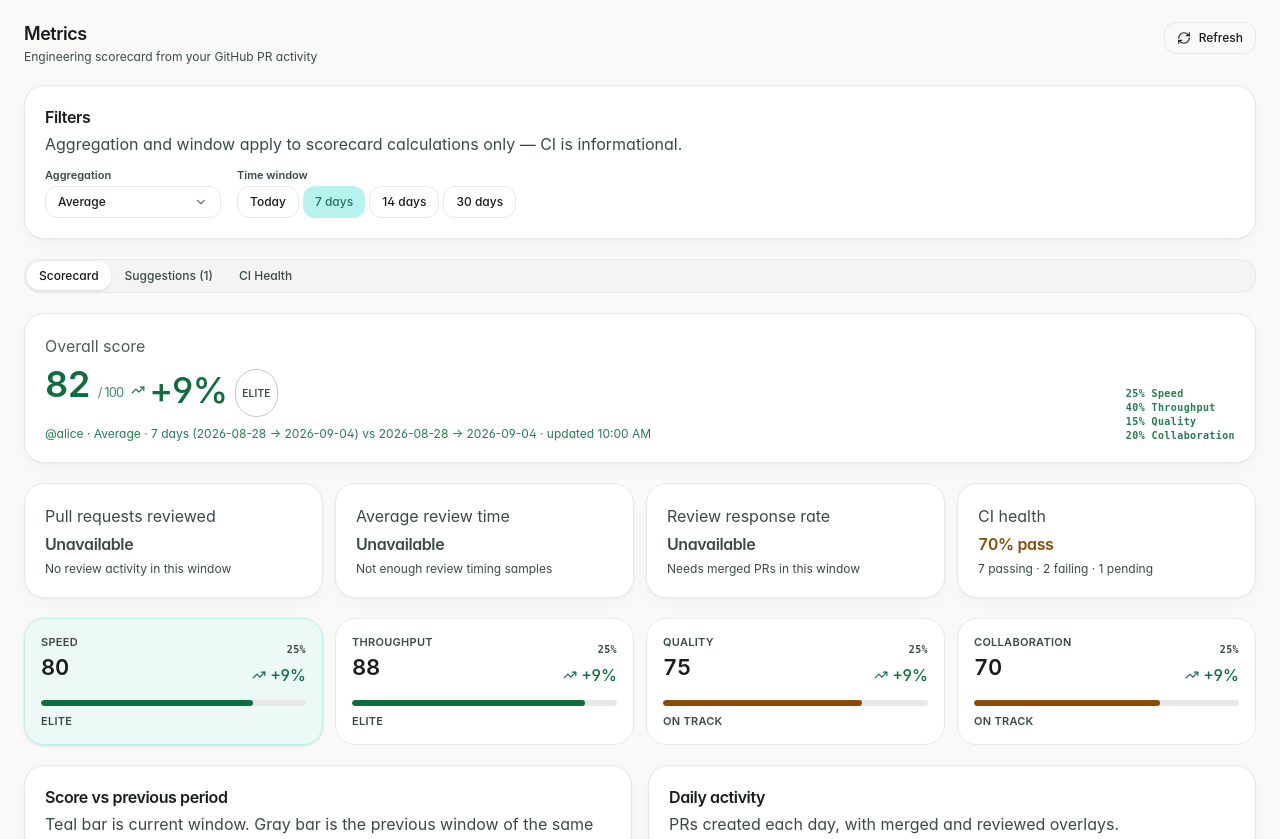
Test case: MetricsPage › renders scorecard tab with category cards and breakdown
Expected: the heading "Metrics" is shown, [24,23,87,44]
Expected: the text "Overall score" is shown, [45,336,145,356]
Click the button "Quality 75 25% +9% On track" at x=688, y=642, box [646,618,945,745]
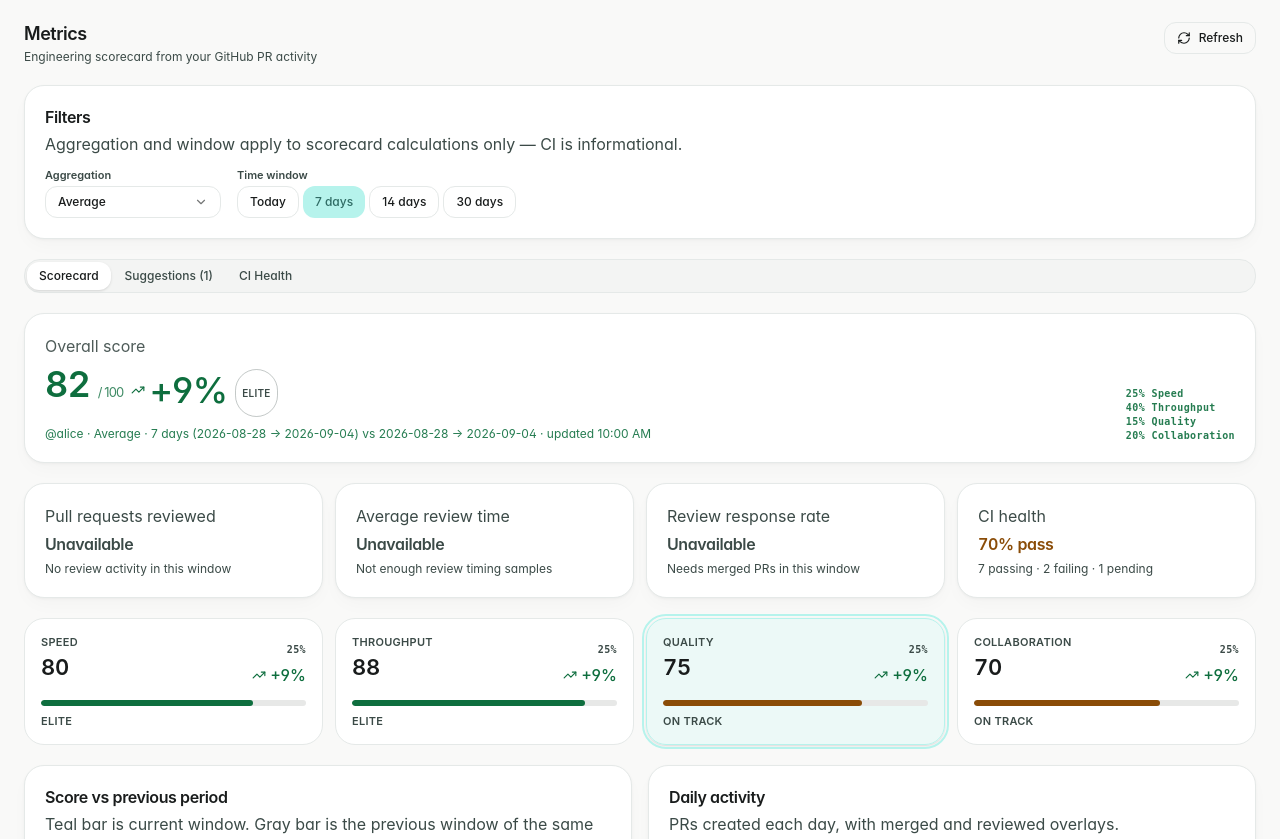
Click the button "Throughput 88 25% +9% Elite" at x=392, y=642, box [335,618,634,745]
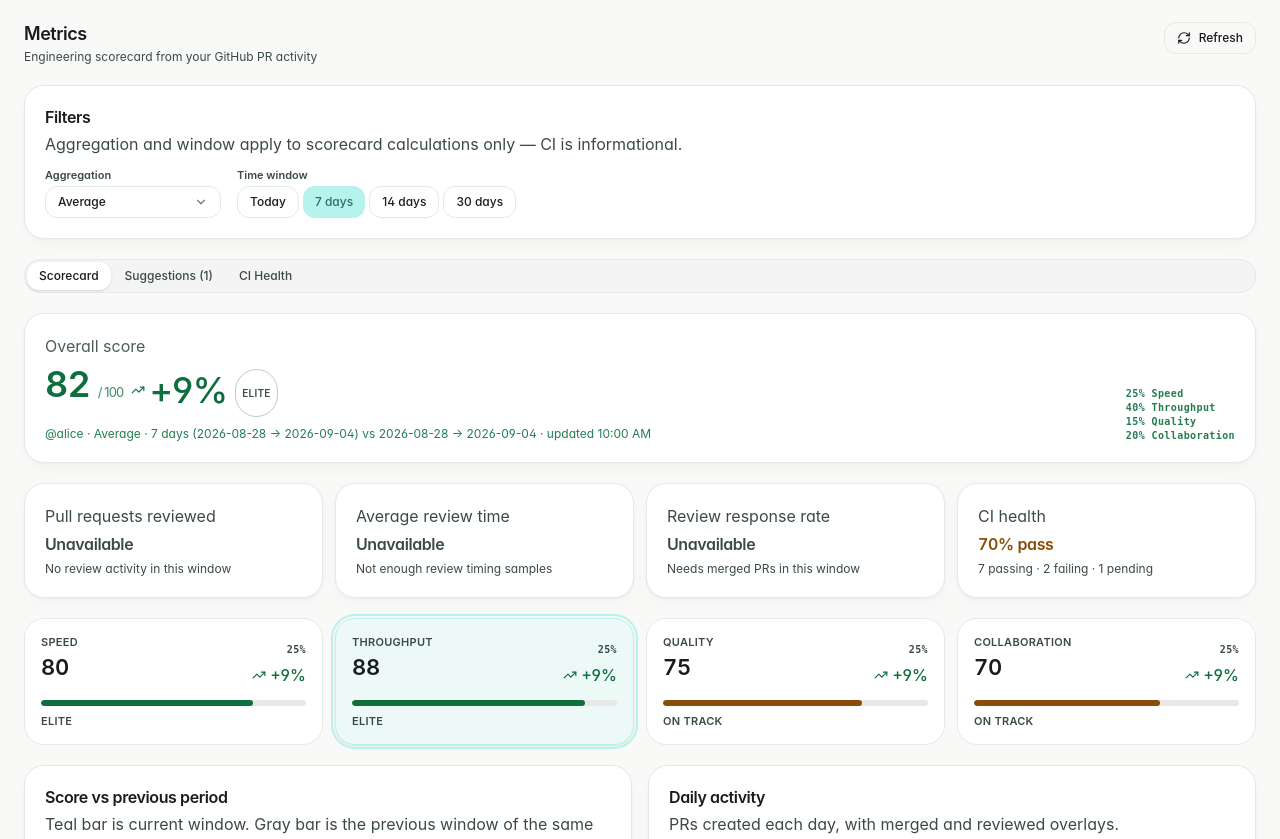
Click the button "Collaboration 70 25% +9% On track" at x=1023, y=642, box [957,618,1256,745]
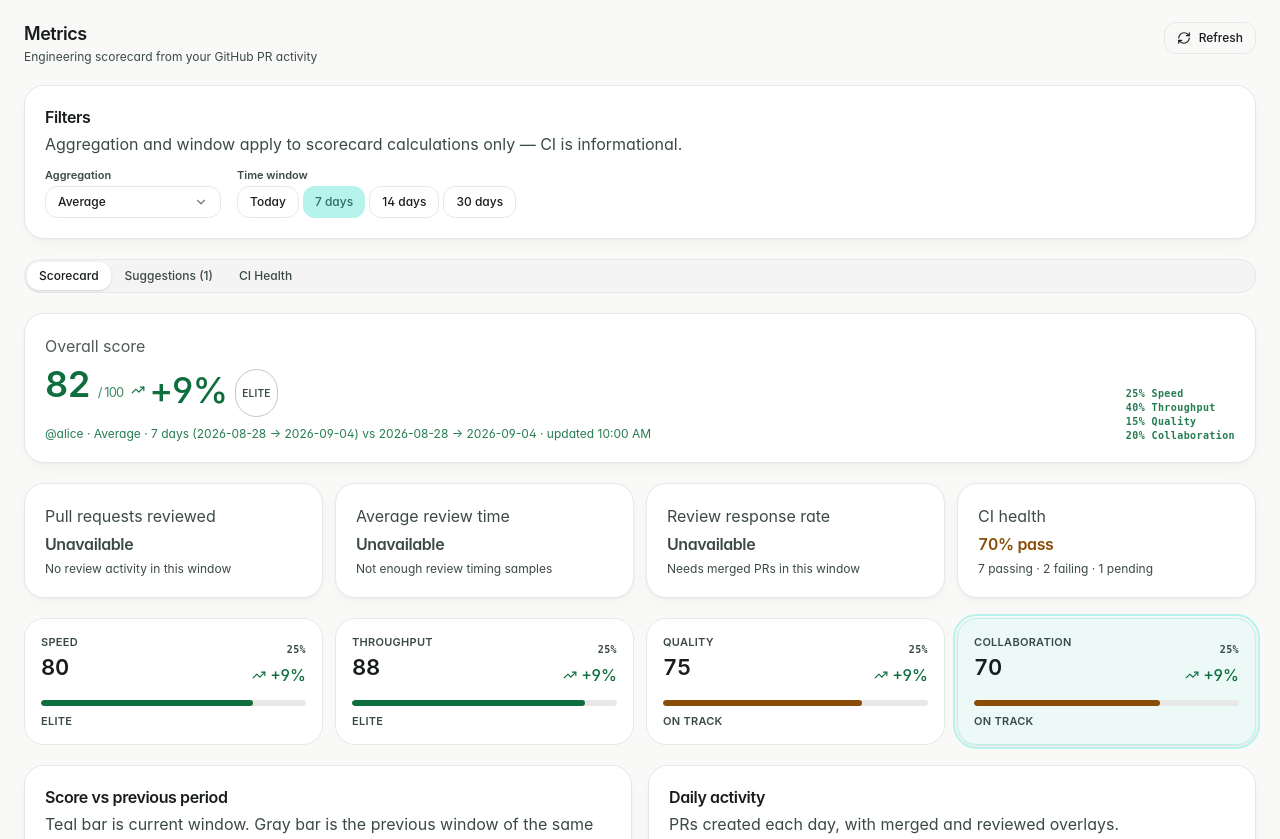
Click the button "Speed 80 25% +9% Elite" at x=59, y=642, box [24,618,323,745]
(page scrolled)
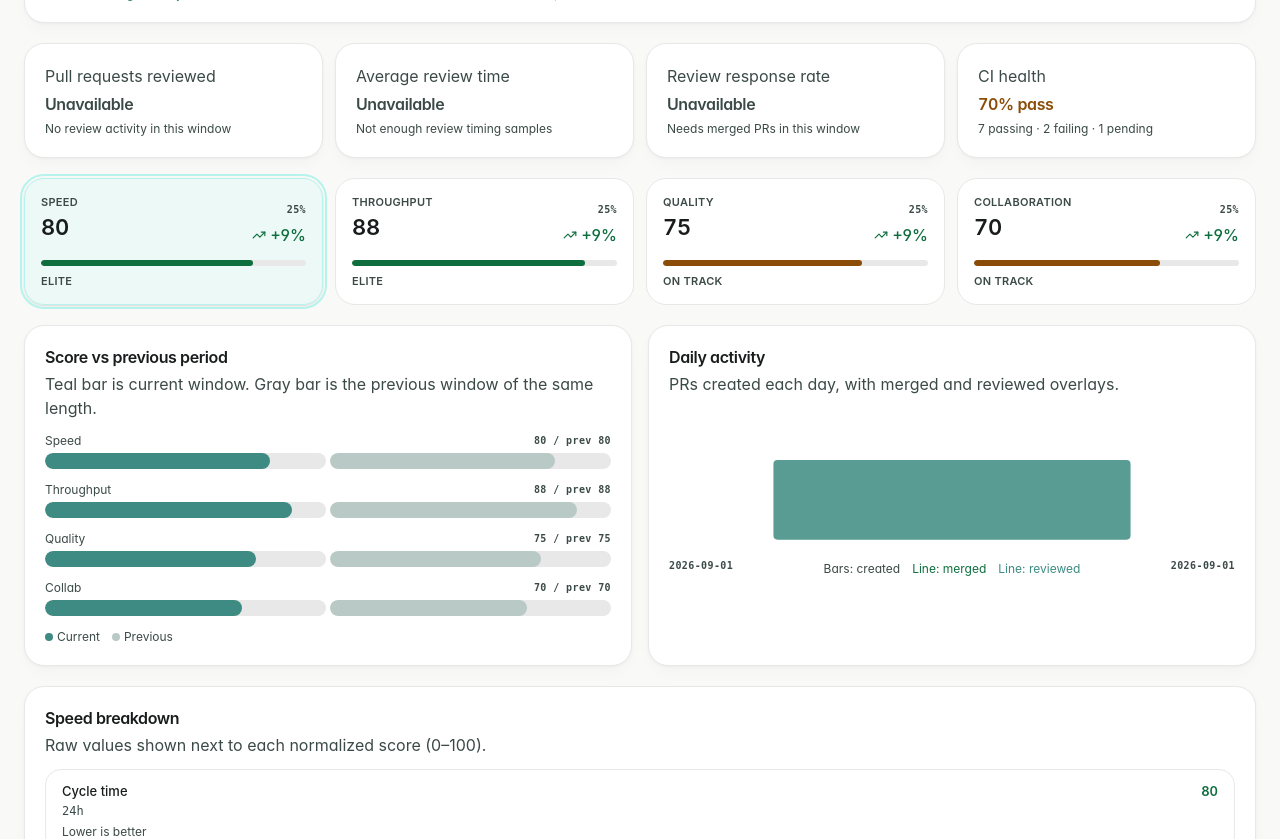
Result: the heading "Speed breakdown" is shown at [45,708,179,728]
